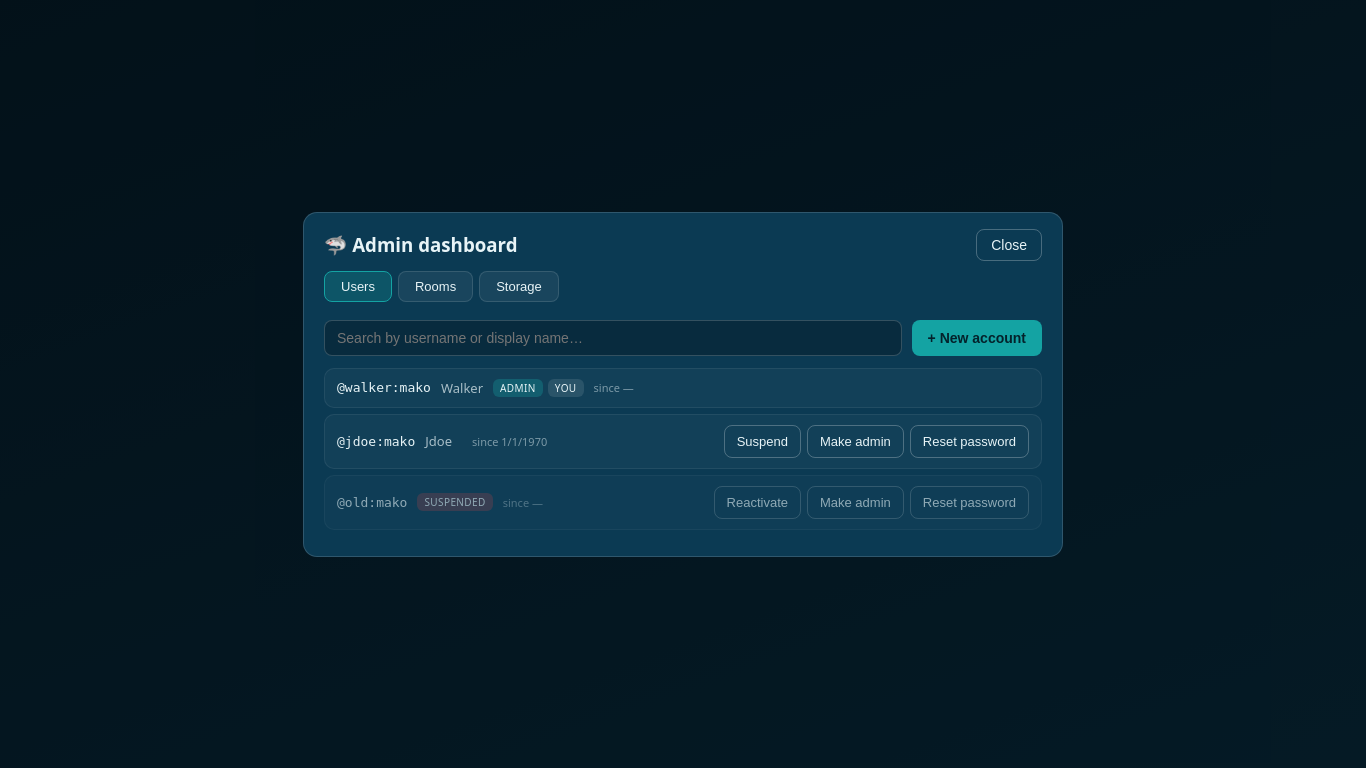
Test case: AdminPanel › shows the rooms overview on the Rooms tab
Check: the text "@jdoe:mako" is shown, box [337,434,415,448]
Click the button "Rooms" at [436, 286], box [398,270,473,302]
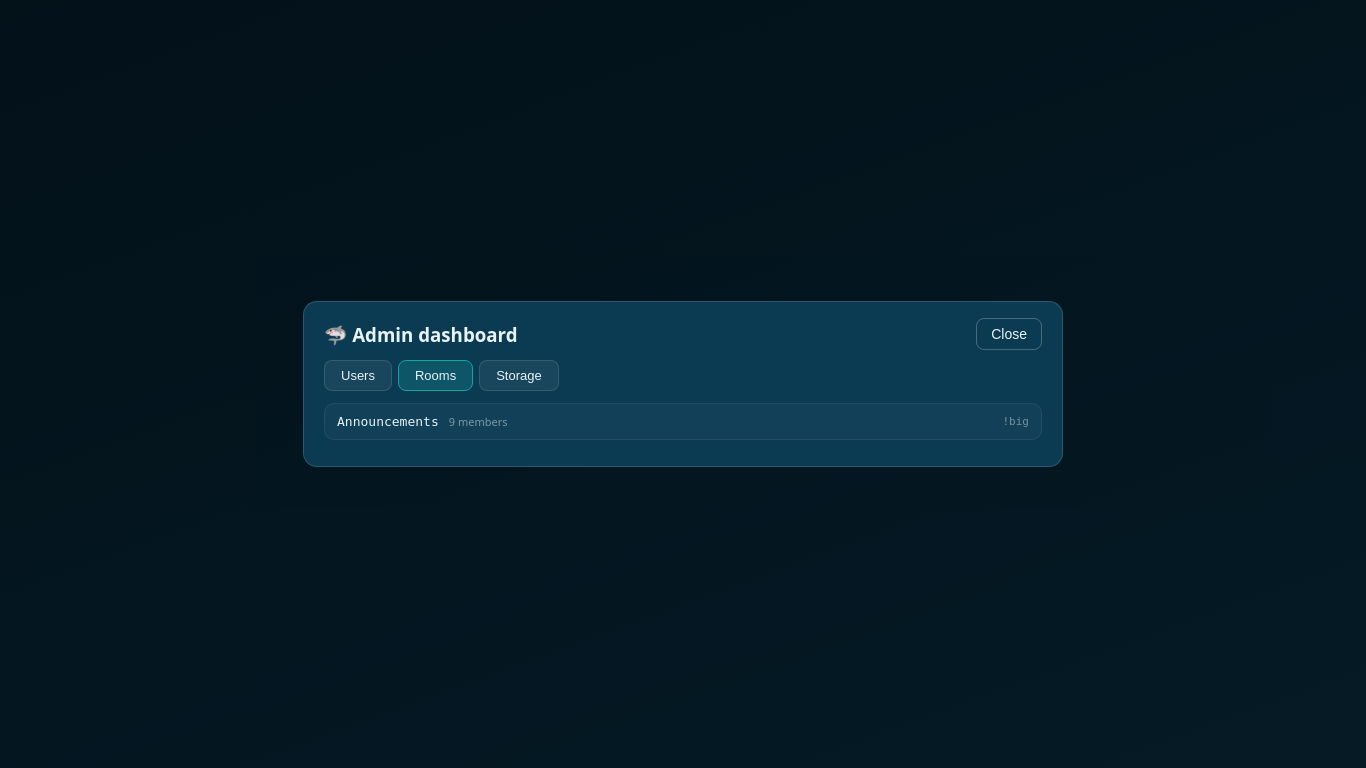
Check: the text "Announcements" is shown, box [337,414,439,429]
Check: the text "9 members" is shown, box [449,414,508,429]
